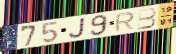5: (40, 20, 60, 44)
7: (21, 24, 37, 47)
9: (89, 14, 109, 37)
B: (137, 7, 158, 31)
J: (68, 17, 86, 39)
R: (114, 11, 136, 33)
